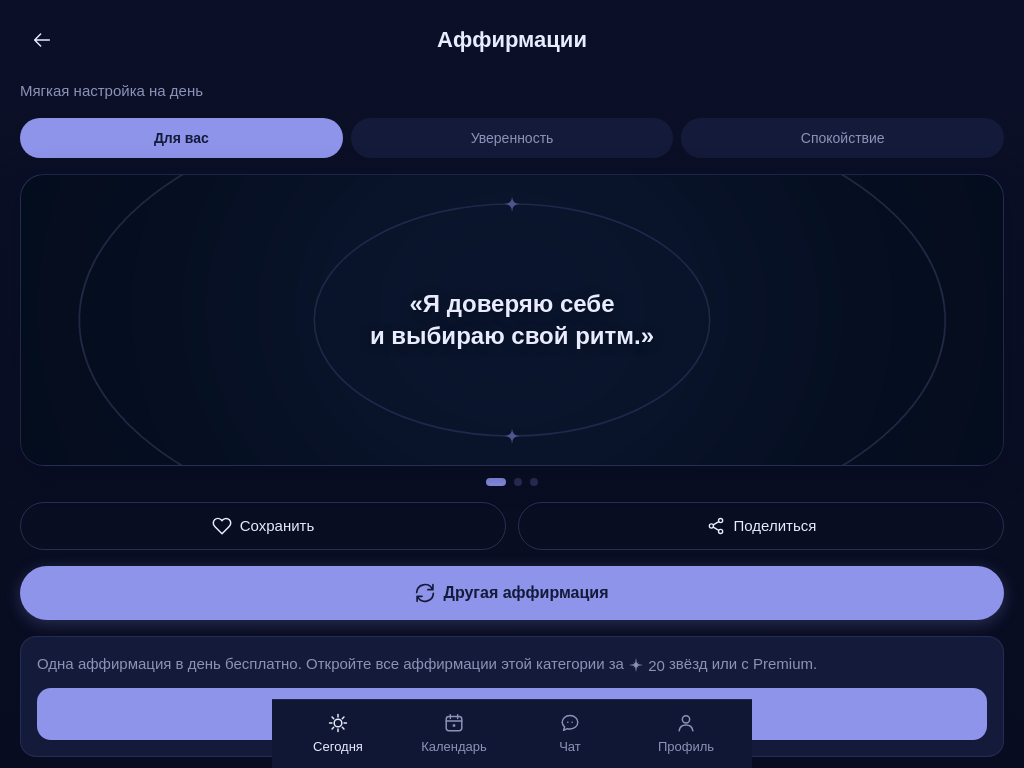
Test: AffirmationsScreen › swipes horizontally to switch cards
The width and height of the screenshot is (1024, 768).
Check: the text "«Я доверяю себе и выбираю свой ритм.»" is shown, box top-left (370, 288), bottom-right (654, 352)
Press the mouse on the element named "Карточка аффирмации" at x=512, y=320, box top-left (20, 174), bottom-right (1004, 466)
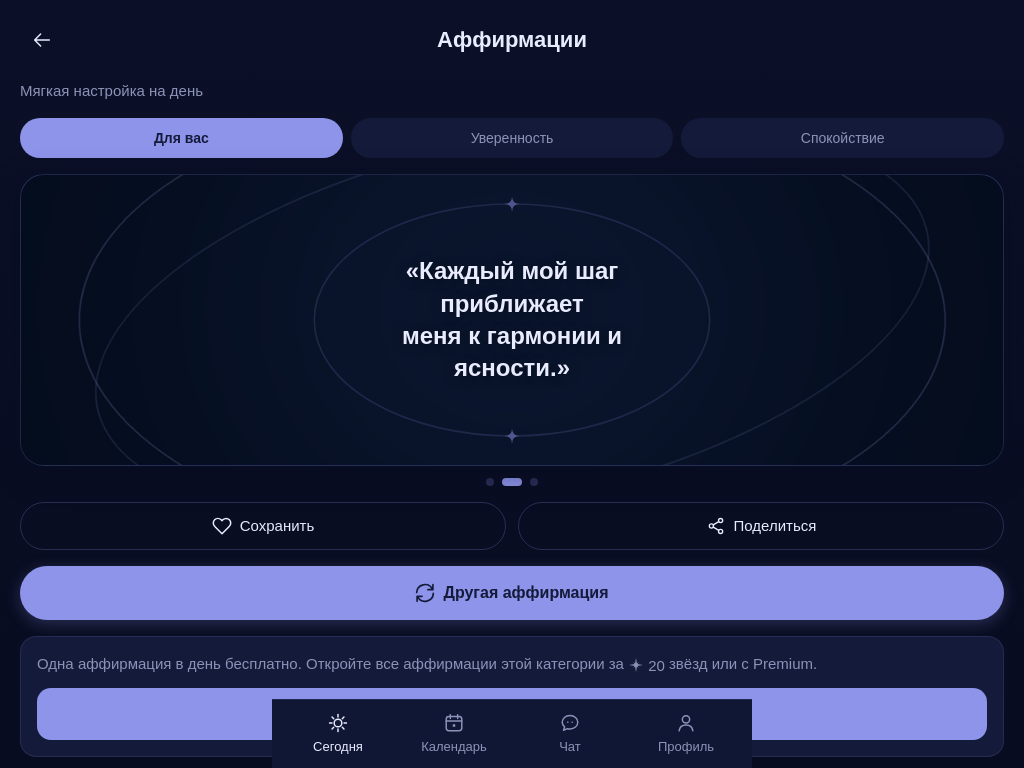
Check: the text "«Каждый мой шаг приближает меня к гармонии и ясности.»" is shown, box top-left (402, 257), bottom-right (622, 381)
Press the mouse on the element named "Карточка аффирмации" at x=512, y=320, box top-left (20, 174), bottom-right (1004, 466)
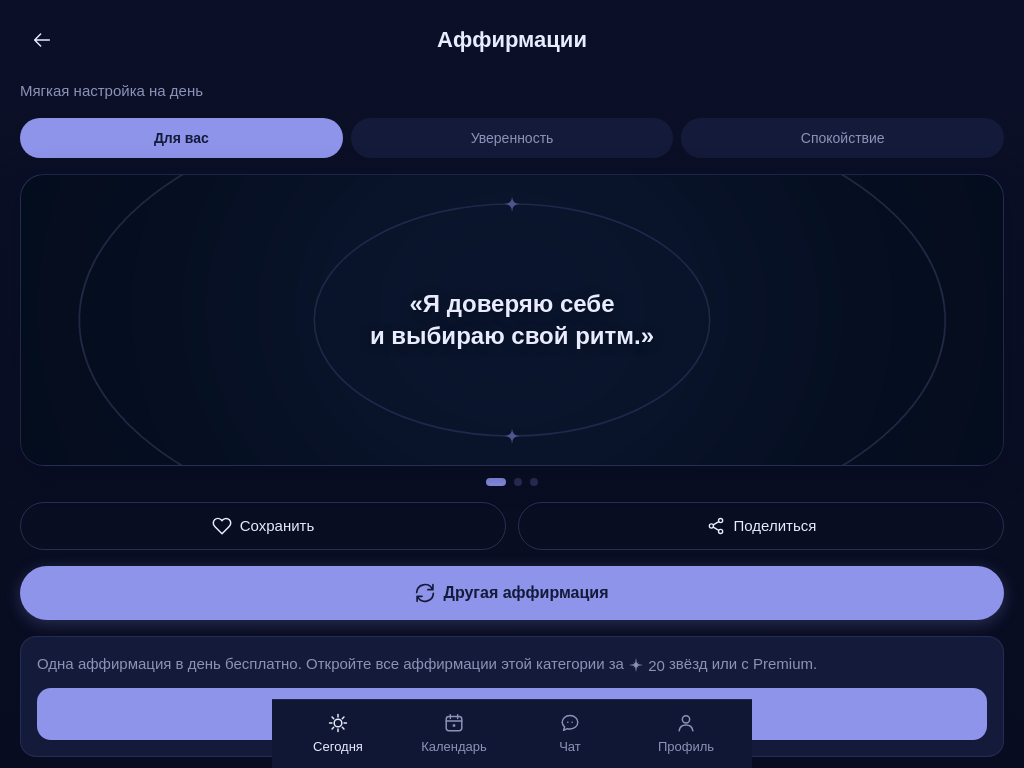
Check: the text "«Я доверяю себе и выбираю свой ритм.»" is shown, box top-left (370, 288), bottom-right (654, 352)
